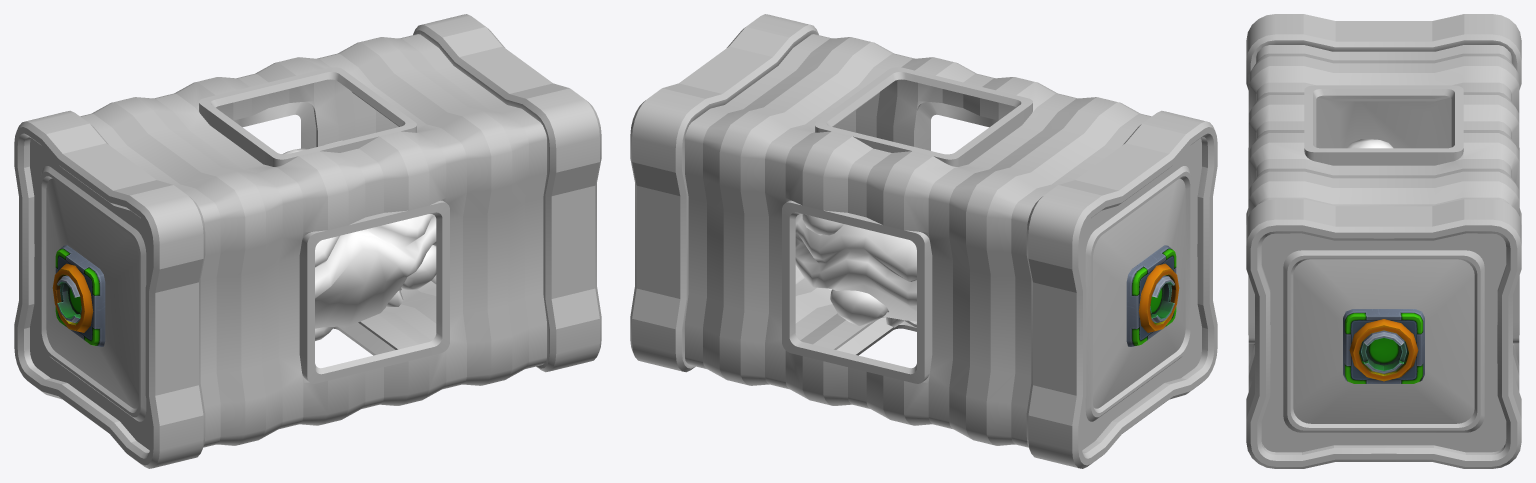
The model's file is fant_glueclam_2.obj.
3 renders of one model, left to right at view 1: azimuth 30°, elevation 25°; view 2: azimuth 150°, elevation 25°; view 3: azimuth 270°, elevation 25°, orthographic. The views are drawn at different scales.
Visible parts, largest first — view 1: fant_glueclam_1; view 2: fant_glueclam_1; view 3: fant_glueclam_1.
Part boxes in pixels (x1,y1,x2,y2): fant_glueclam_1: (14, 14, 601, 468); fant_glueclam_1: (630, 14, 1217, 468); fant_glueclam_1: (1246, 14, 1521, 468).
Size of the model in its own units: 9.71 by 5 by 5.
